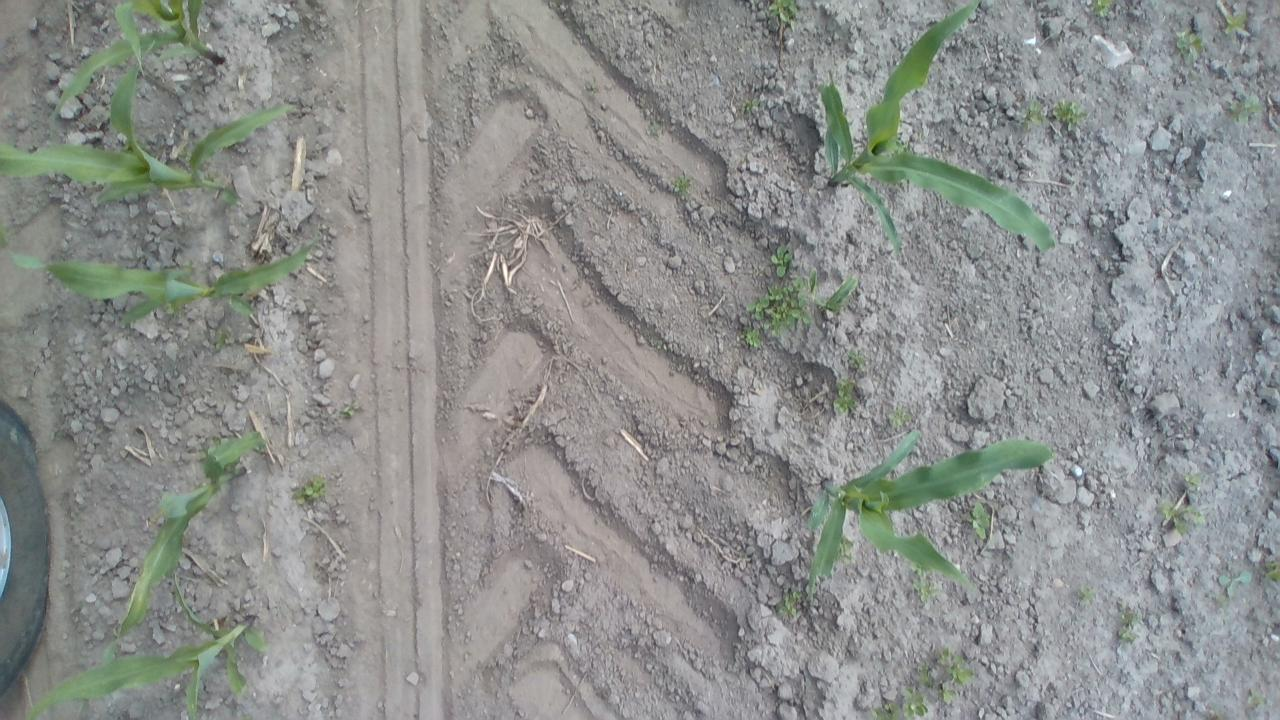Maize: (805, 0, 1059, 264), (2, 42, 314, 224), (789, 428, 1066, 599), (22, 567, 274, 720), (108, 426, 276, 645), (6, 232, 330, 330), (39, 4, 241, 127)
Weeds: (870, 647, 976, 720), (745, 275, 812, 349), (1154, 496, 1208, 540), (1112, 598, 1152, 649), (768, 576, 812, 622), (1044, 94, 1092, 130), (1226, 84, 1263, 130), (1171, 28, 1210, 71), (1214, 562, 1252, 606), (908, 568, 942, 608), (1012, 94, 1046, 132), (966, 500, 994, 544), (290, 474, 328, 506), (833, 374, 861, 416), (769, 243, 802, 277), (766, 0, 801, 31), (1222, 11, 1254, 44), (1070, 578, 1104, 608), (207, 328, 237, 362), (1255, 554, 1280, 590), (1176, 466, 1206, 496), (886, 398, 914, 426), (834, 534, 858, 566), (1241, 682, 1266, 712), (332, 399, 362, 421), (1088, 0, 1118, 20), (670, 172, 693, 198), (845, 348, 871, 371), (738, 94, 763, 116), (644, 118, 666, 142)
